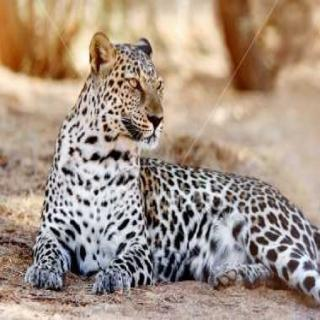Leopard: (47, 15, 320, 320)
